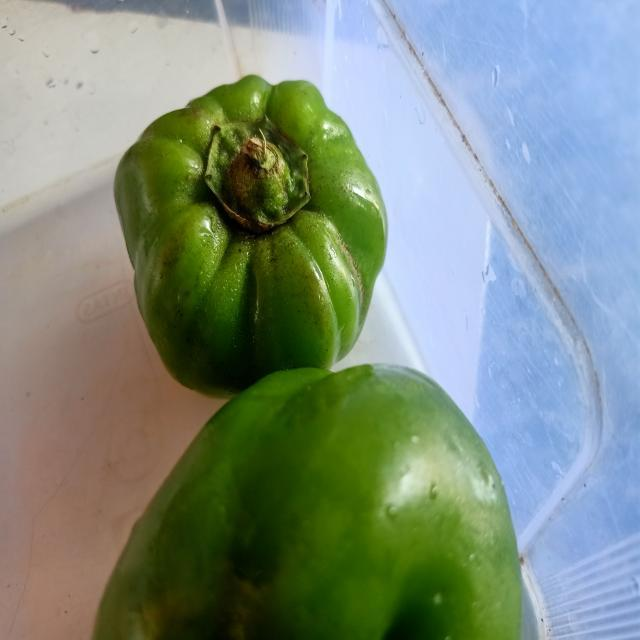Capsicum: (85, 24, 420, 406), (87, 363, 531, 640)
